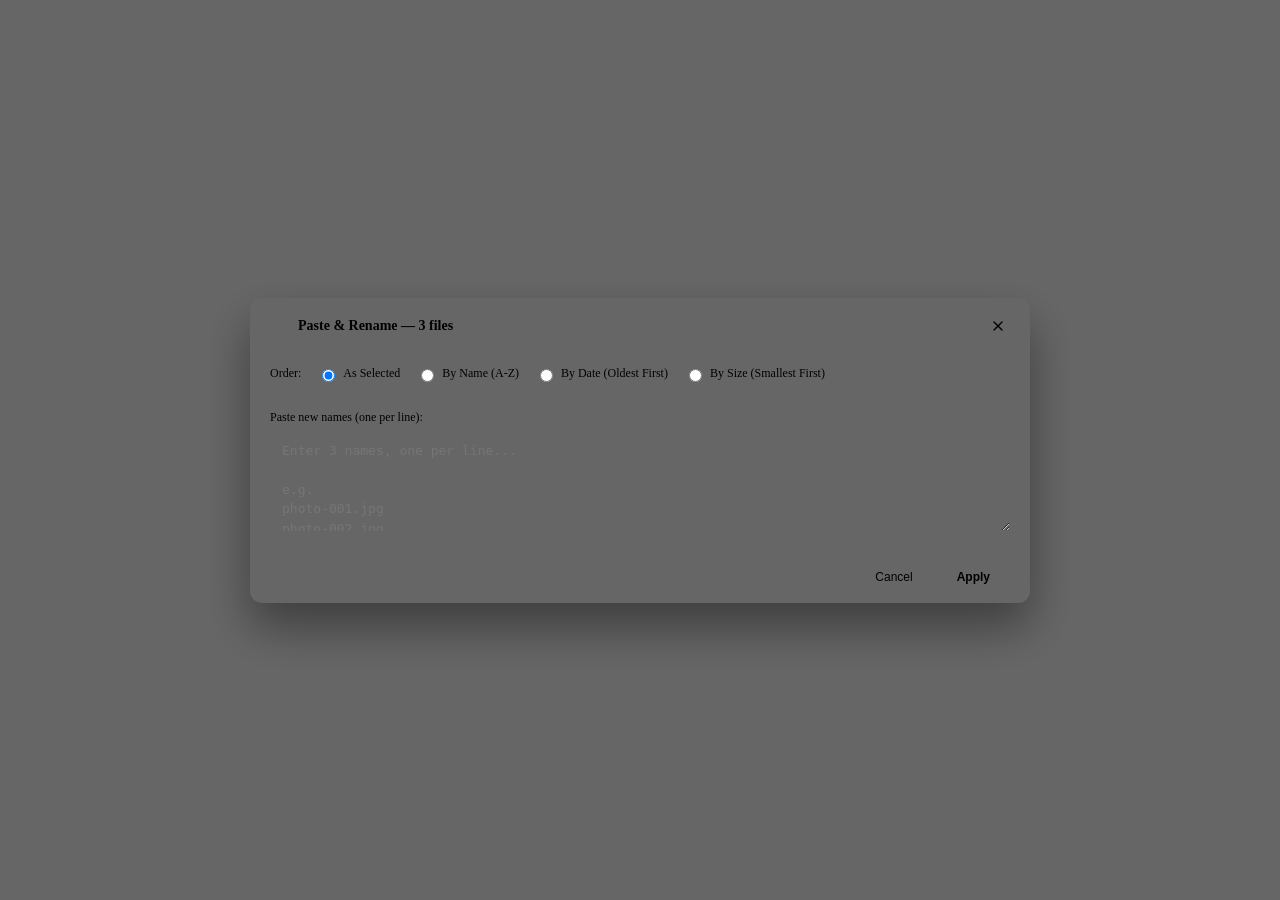
Test: PasteRenameDialog › Preview table › shows count mismatch warning when counts differ
The width and height of the screenshot is (1280, 900).
Replace the text in the text box with "only-one.jpg". click: (640, 480)
box: [270,430,1010,530]
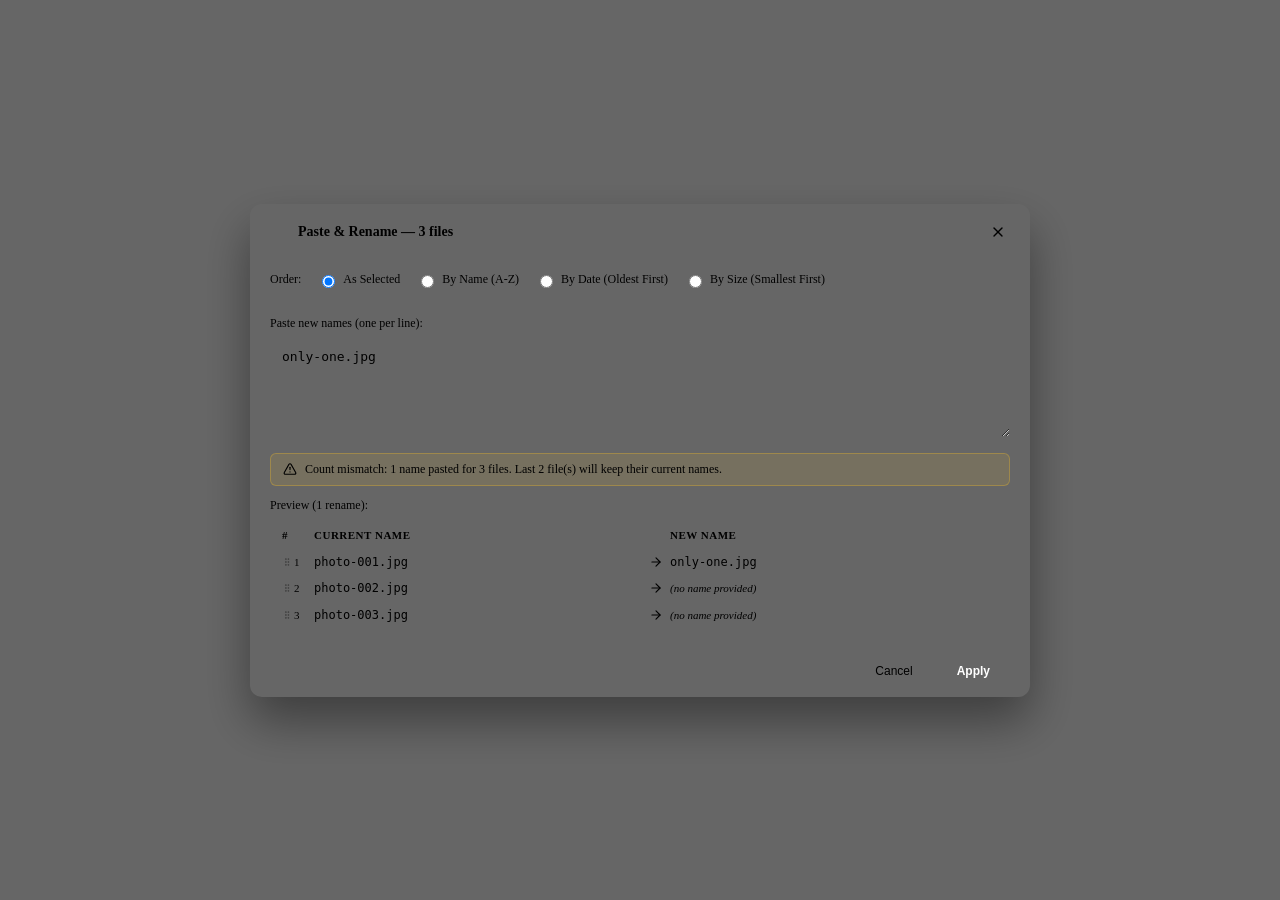
Result: the text "Count mismatch" is shown at [305,462,390,476]
